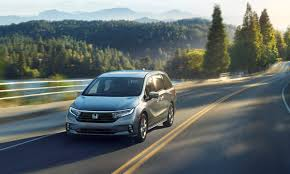front_car: (63, 68, 178, 144)
